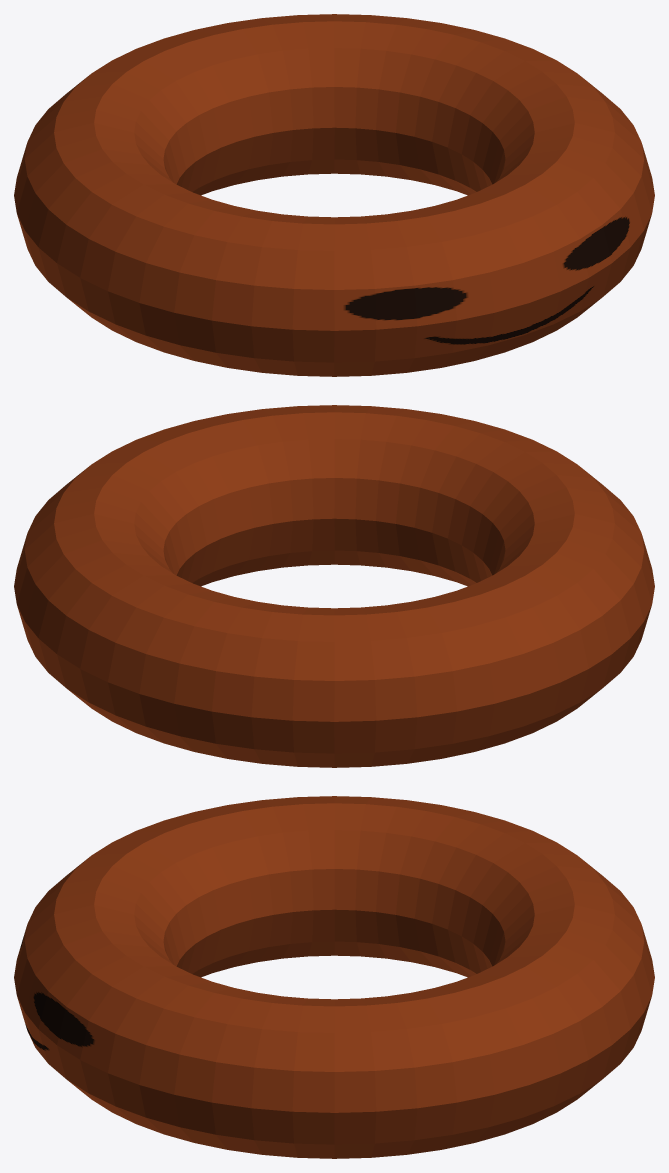
File: player.obj
3 views of the same model, one above another, from view 1: azimuth 30°, elevation 25°; view 2: azimuth 150°, elevation 25°; view 3: azimuth 270°, elevation 25° (orthographic).
Parts seen in each view (by area): view 1: トーラス.001; view 2: トーラス.001; view 3: トーラス.001.
Part boxes in pixels (x1=…): トーラス.001: x1=14, y1=14, x2=654, y2=376; トーラス.001: x1=14, y1=405, x2=654, y2=767; トーラス.001: x1=14, y1=796, x2=654, y2=1158.
Bounding box in the file's own units: 1 × 0.25 × 1.
1 material, 1 textured.
